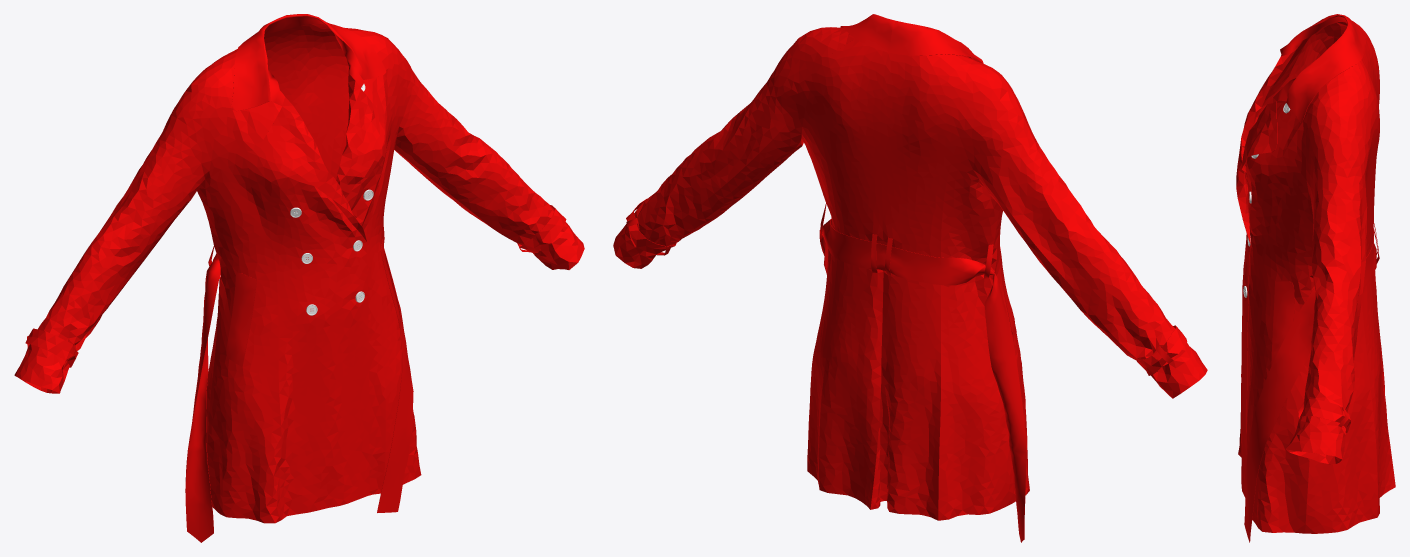
The model's file is asset.gltf.
3 views of the same model, side by side, from view 1: azimuth 30°, elevation 25°; view 2: azimuth 150°, elevation 25°; view 3: azimuth 270°, elevation 25° (orthographic). The views are drawn at different scales.
Parts seen in each view (by area): view 1: Cloth; view 2: Cloth; view 3: Cloth.
Part boxes in pixels (left/top/right/bottom): Cloth: left=14, top=14, right=584, bottom=542; Cloth: left=613, top=14, right=1207, bottom=542; Cloth: left=1236, top=14, right=1395, bottom=542.
Size of the model in its own units: 1.13 by 0.9409 by 0.2719.
Materials: 2 (2 with a texture image).
